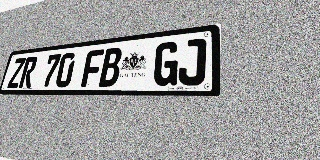0: (54, 52, 76, 87)
7: (40, 54, 62, 88)
B: (98, 47, 123, 87)
F: (81, 49, 104, 87)
G: (152, 41, 180, 86)
J: (178, 38, 207, 86)
R: (18, 56, 38, 88)
Z: (7, 58, 26, 88)
